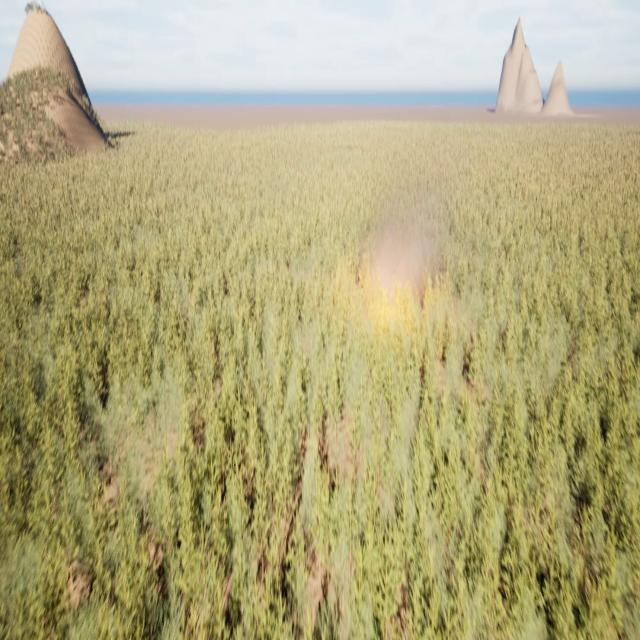smoke: (366, 209, 438, 303)
